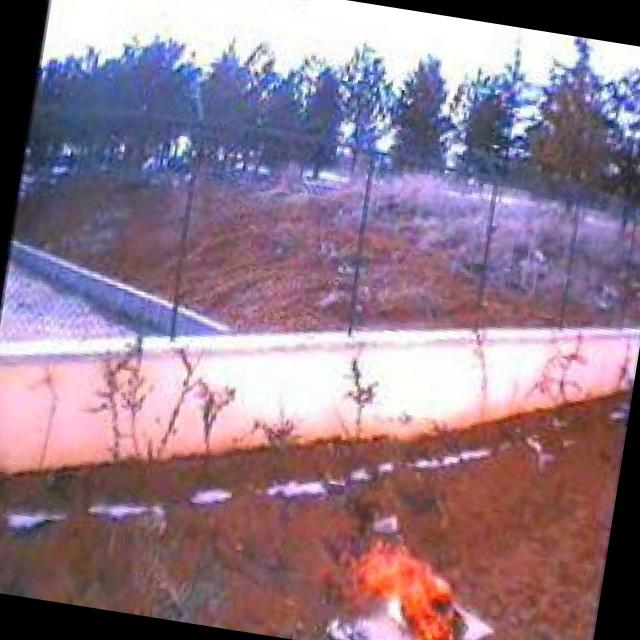Fire: (310, 524, 485, 640)
